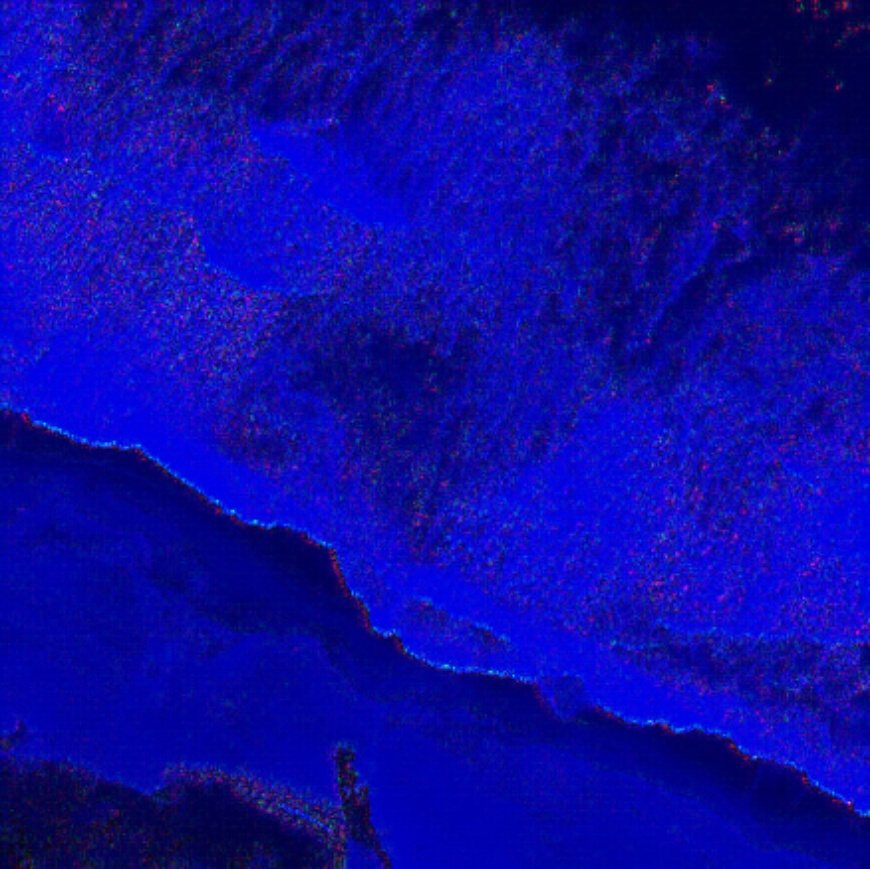rip_current: (267, 65, 735, 528)
